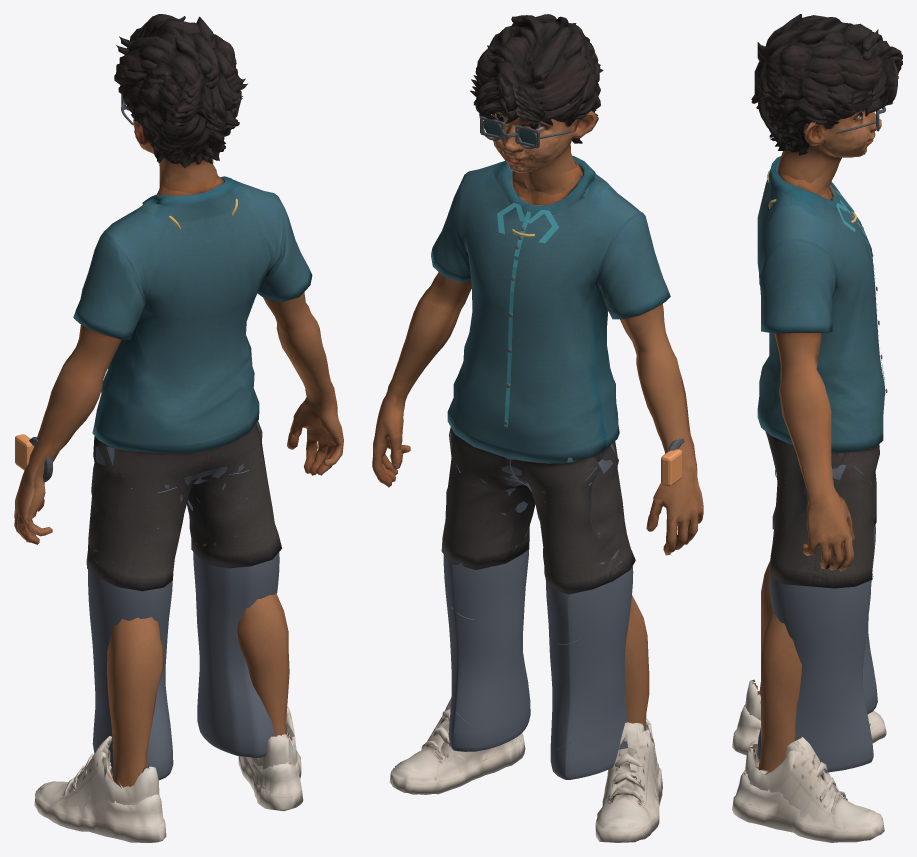
Rendered from teen_courier_customization.glb.
The picture shows the model from 3 angles, left to right: view 1: azimuth 30°, elevation 25°; view 2: azimuth 150°, elevation 25°; view 3: azimuth 270°, elevation 25°; orthographic projection.
Parts seen in each view (by area): view 1: Top_buttonshirt, Bottom_shorts, Bottom_trousers, Body_Base, Body_Lower_Shorts, Hair_quiff, Hair_wavy, Shoes_runner, Face_angular, Shoes_hightop, Shoes_canvas, Face_soft; view 2: Top_buttonshirt, Bottom_trousers, Bottom_shorts, Body_Base, Hair_quiff, Face_soft, Shoes_hightop, Body_Lower_Shorts, Shoes_runner, Hair_wavy, Shoes_canvas, Face_angular (+4 smaller); view 3: Top_buttonshirt, Bottom_trousers, Body_Base, Bottom_shorts, Hair_quiff, Body_Lower_Shorts, Hair_wavy, Shoes_hightop, Shoes_runner, Face_soft, Face_angular, Shoes_canvas (+2 smaller).
Part boxes in pixels (<box>): Top_buttonshirt: <box>73,186,312,456</box>; Bottom_shorts: <box>87,421,281,591</box>; Bottom_trousers: <box>88,422,279,780</box>; Body_Base: <box>14,292,343,544</box>; Body_Lower_Shorts: <box>86,538,289,787</box>; Hair_quiff: <box>119,14,245,159</box>; Hair_wavy: <box>114,45,247,158</box>; Shoes_runner: <box>34,745,303,842</box>; Face_angular: <box>125,110,257,239</box>; Shoes_hightop: <box>55,707,297,812</box>; Shoes_canvas: <box>37,733,300,825</box>; Face_soft: <box>122,94,248,216</box>; Top_buttonshirt: <box>431,169,670,462</box>; Bottom_trousers: <box>443,444,633,779</box>; Bottom_shorts: <box>442,425,635,593</box>; Body_Base: <box>372,189,703,555</box>; Hair_quiff: <box>472,14,600,141</box>; Face_soft: <box>473,100,610,208</box>; Shoes_hightop: <box>410,698,656,812</box>; Body_Lower_Shorts: <box>435,529,649,799</box>; Shoes_runner: <box>389,733,662,842</box>; Hair_wavy: <box>470,26,603,139</box>; Shoes_canvas: <box>392,738,658,837</box>; Face_angular: <box>475,107,616,209</box>; Top_buttonshirt: <box>757,179,884,457</box>; Bottom_trousers: <box>757,464,877,772</box>; Body_Base: <box>774,187,855,571</box>; Bottom_shorts: <box>765,431,882,588</box>; Hair_quiff: <box>751,14,902,148</box>; Body_Lower_Shorts: <box>757,514,876,799</box>; Hair_wavy: <box>751,40,902,147</box>; Shoes_hightop: <box>745,679,856,821</box>; Shoes_runner: <box>732,705,886,842</box>; Face_soft: <box>772,95,881,213</box>; Face_angular: <box>768,94,895,226</box>; Shoes_canvas: <box>749,712,873,842</box>.
Bounding box in the file's own units: 0.7133 × 1.64 × 0.3322.
Materials: 12 (5 with a texture image).
